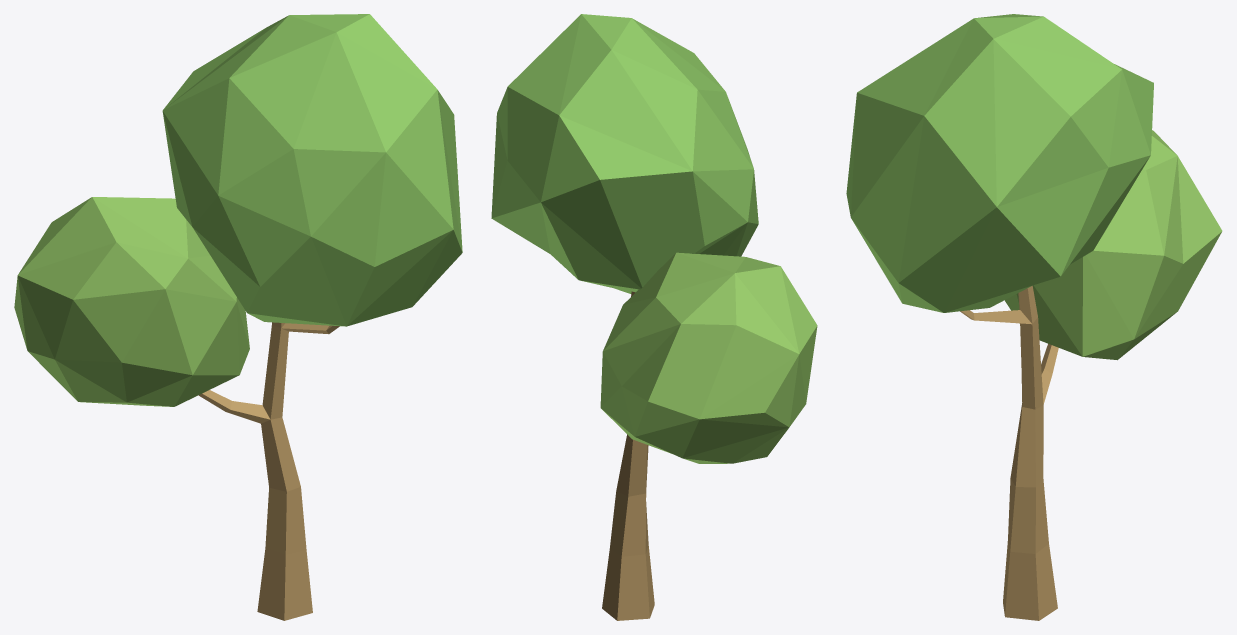
Rendered from Oak_Tree_m_08.fbx.
3 renders of one model, left to right at view 1: azimuth 30°, elevation 25°; view 2: azimuth 150°, elevation 25°; view 3: azimuth 270°, elevation 25°, orthographic. The views are drawn at different scales.
Visible parts, largest first — view 1: Oak_Tree_m_08; view 2: Oak_Tree_m_08; view 3: Oak_Tree_m_08.
Part boxes in pixels (<box>): Oak_Tree_m_08: <box>14,14,462,620</box>; Oak_Tree_m_08: <box>491,14,817,620</box>; Oak_Tree_m_08: <box>846,14,1222,620</box>.
Size of the model in its own units: 501 by 753 by 425.
